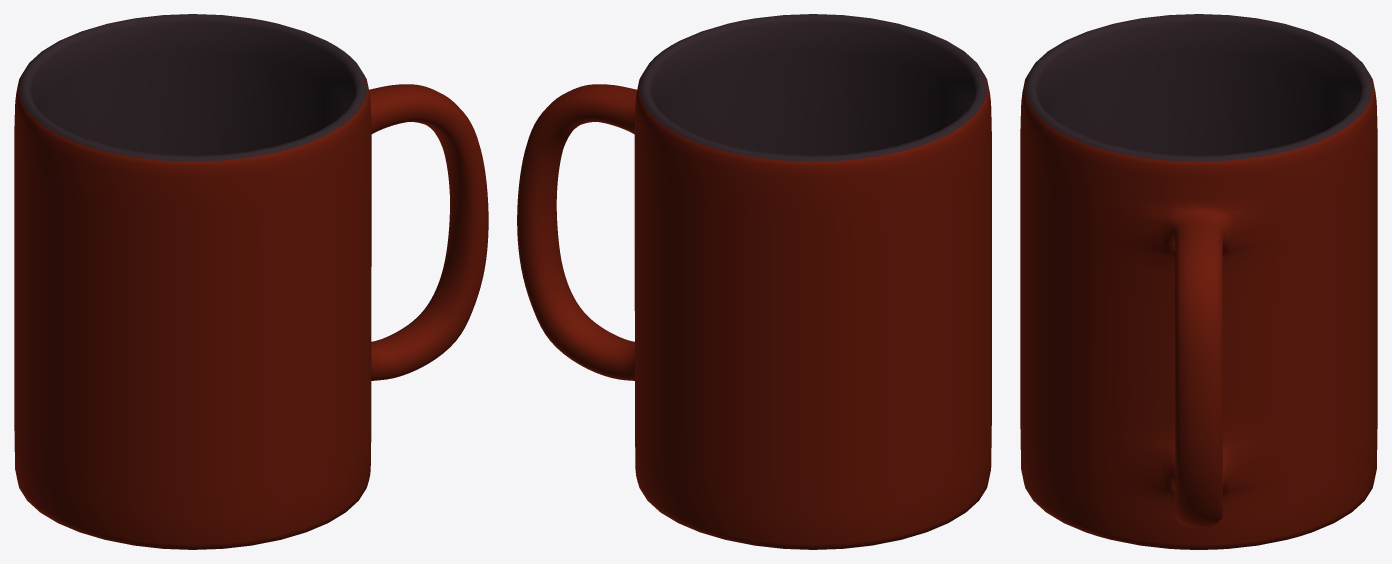
File: bardak.fbx
3 views of the same model, side by side, from view 1: azimuth 30°, elevation 25°; view 2: azimuth 150°, elevation 25°; view 3: azimuth 270°, elevation 25° (orthographic).
Parts seen in each view (by area): view 1: Simple_Mug.002; view 2: Simple_Mug.002; view 3: Simple_Mug.002.
Boxes of the visible parts, <box> form: Simple_Mug.002: <box>14,14,488,549</box>; Simple_Mug.002: <box>517,14,991,549</box>; Simple_Mug.002: <box>1020,14,1377,549</box>.
Size of the model in its own units: 8.9 by 7.51 by 6.19.
